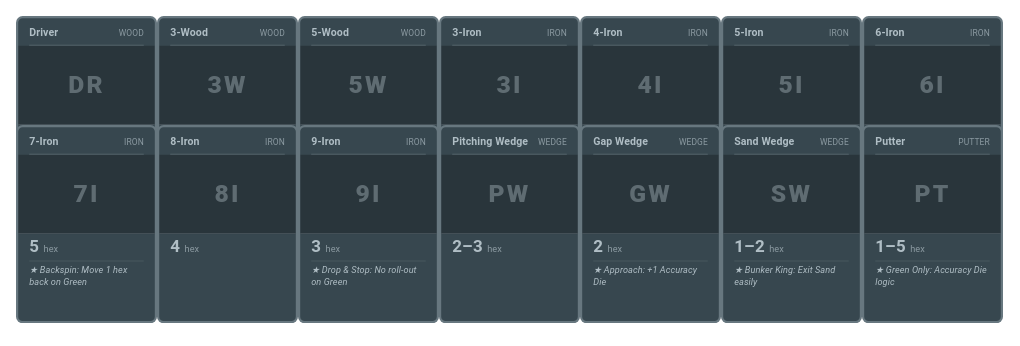
DeckPanel › removes the selected club from the bag when clicked
Click the button with aria-label "Driver, Wood": (86, 115) 16,16 -> 157,214
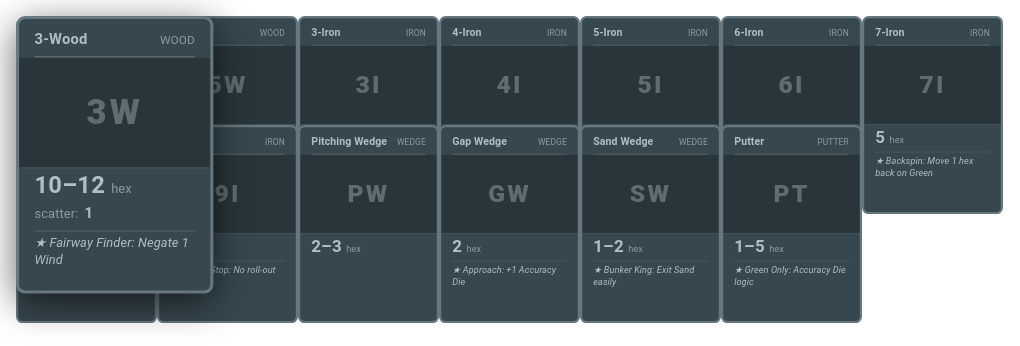
Expected: the number of buttons named "3-Wood, Wood, distance 10–12 hexes" is 13
